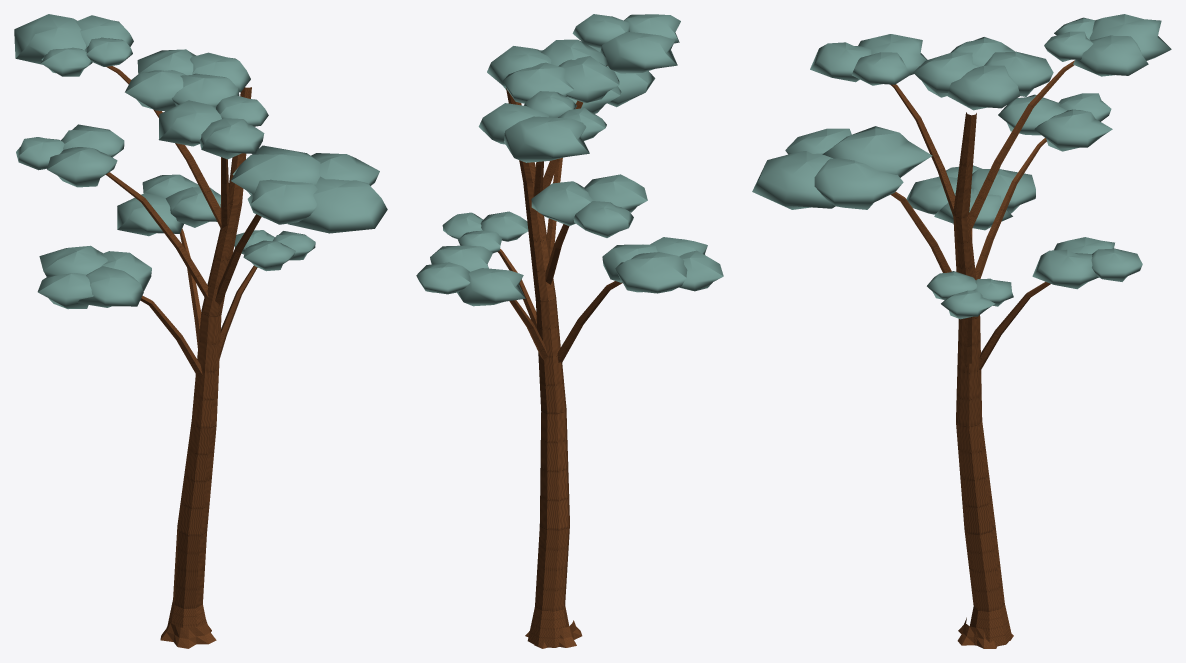
Rendered from scots-pine-old.glb.
3 views of the same model, side by side, from view 1: azimuth 30°, elevation 25°; view 2: azimuth 150°, elevation 25°; view 3: azimuth 270°, elevation 25° (orthographic).
Parts seen in each view (by area): view 1: scots-pine-old; view 2: scots-pine-old; view 3: scots-pine-old.
Boxes of the visible parts, x1=… form: scots-pine-old: x1=14, y1=14, x2=387, y2=648; scots-pine-old: x1=416, y1=14, x2=723, y2=648; scots-pine-old: x1=752, y1=14, x2=1171, y2=648.
Size of the model in its own units: 8.16 by 16.23 by 10.57.
2 materials, 1 textured.
